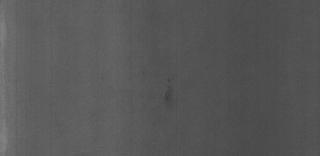water spot: (159, 76, 181, 106)
